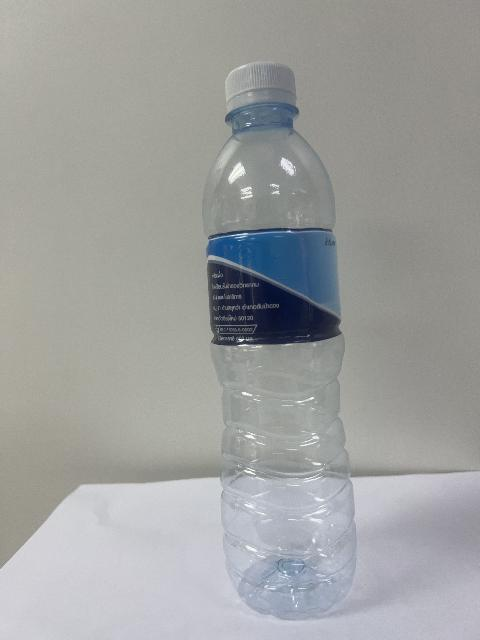bottle: (203, 62, 355, 619)
